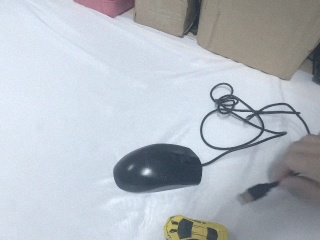box: (133, 1, 200, 38)
mouse: (112, 143, 202, 194)
toy_car: (163, 215, 227, 240)
